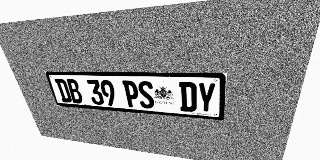3: (86, 79, 105, 105)
9: (99, 80, 118, 106)
B: (65, 79, 84, 104)
D: (179, 82, 197, 112), (54, 79, 73, 103)
P: (122, 80, 140, 108)
S: (137, 81, 155, 109)
Y: (197, 82, 216, 114)
